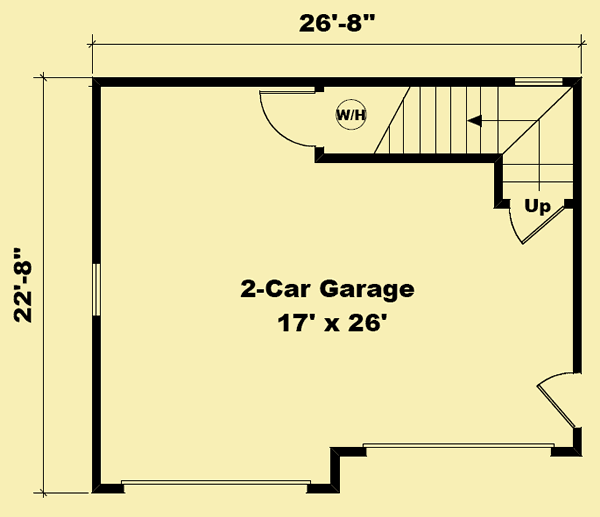door: (254, 89, 318, 149), (509, 197, 564, 248), (538, 367, 582, 427)
stairs: (374, 88, 576, 200)
window: (90, 261, 105, 318), (512, 74, 565, 88)
